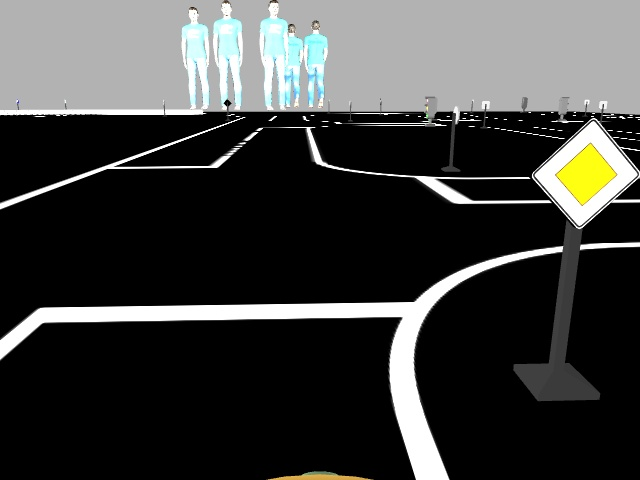Priority: (531, 116, 639, 228)
